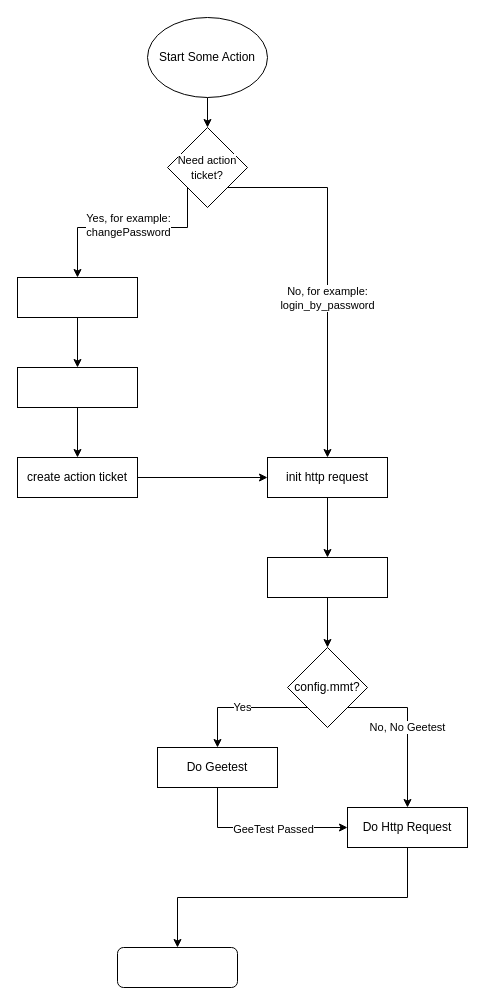
The diagram is 485 pixels wide and 1005 high, and some of its shapes have lost their labels. Here are the shapes that lost their labels. From the top down, the centre of each, then its label:
the point at 77,297: this.$mhyAction.xx
the point at 77,387: this.$getActionTicket
the point at 327,577: httpServiceInterceptor
the point at 177,967: End
